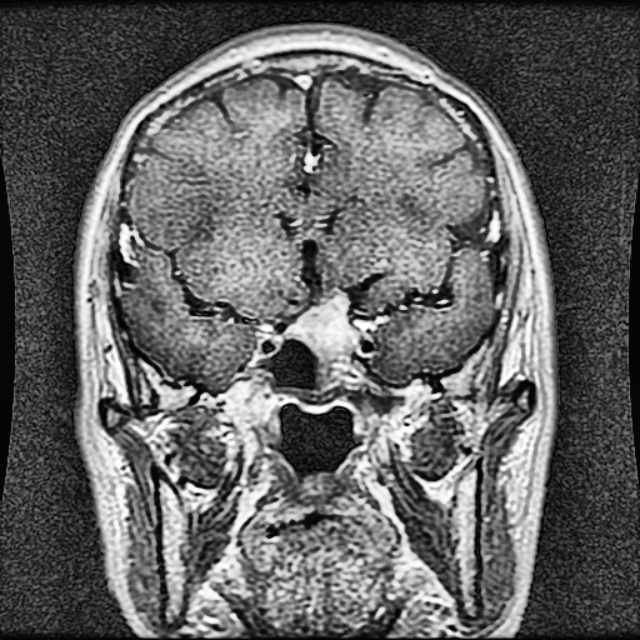Pituitary: (283, 294, 363, 384)
